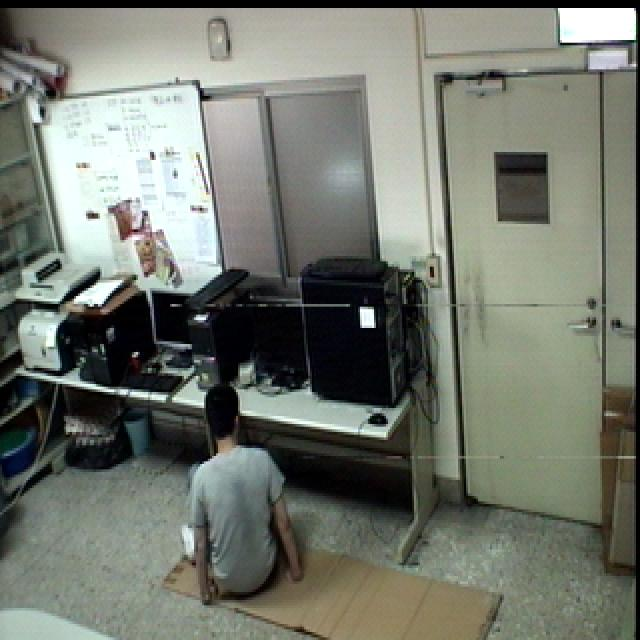sit: (175, 369, 306, 613)
